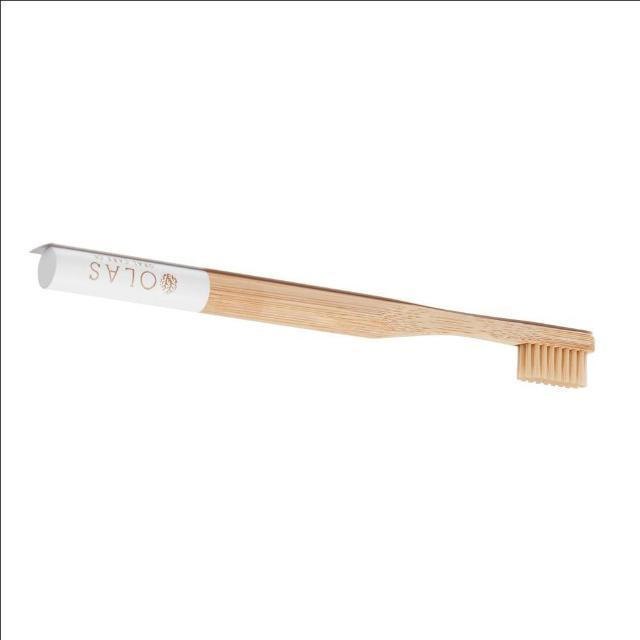toothbrush: (17, 173, 620, 414)
